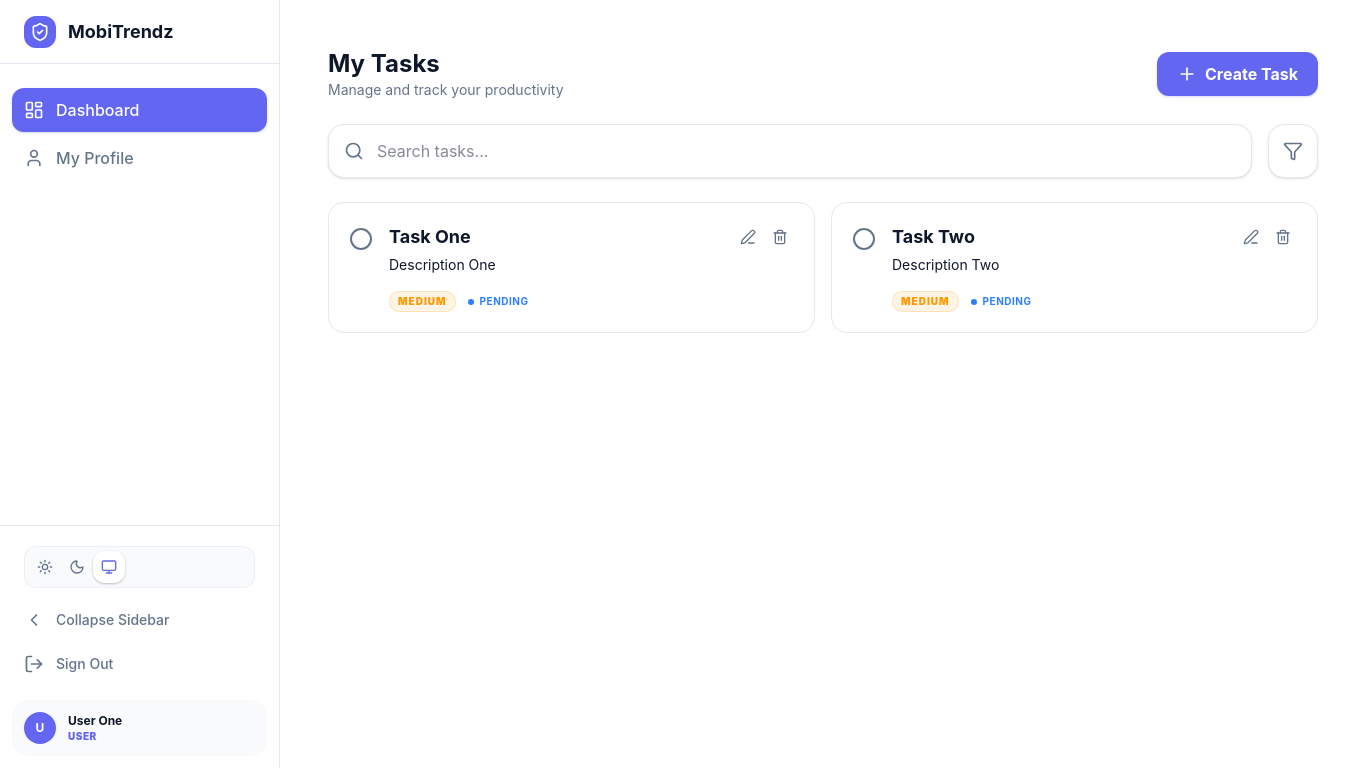
it: Dashboard edge cases › user can search for tasks
The image size is (1366, 768).
Expected: the heading "My Tasks" is shown, [328,49,440,78]
Expected: the heading "Task One" is shown, [389,223,471,251]
In the field with placeholder "Search tasks...": (790, 151) [328,124,1252,178], type "One"
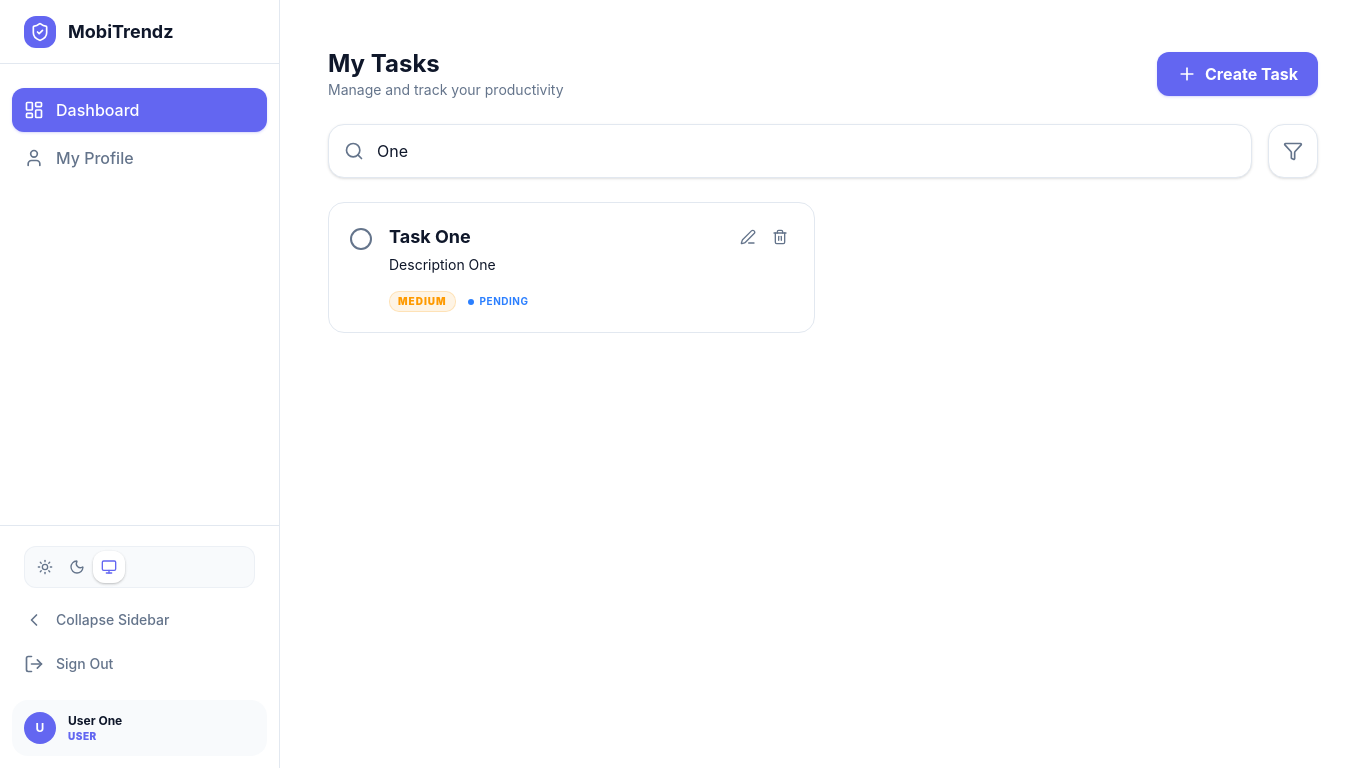
Expected: the heading "Task One" is shown, [389,223,471,251]
Now the heading "Task Two" is gone
